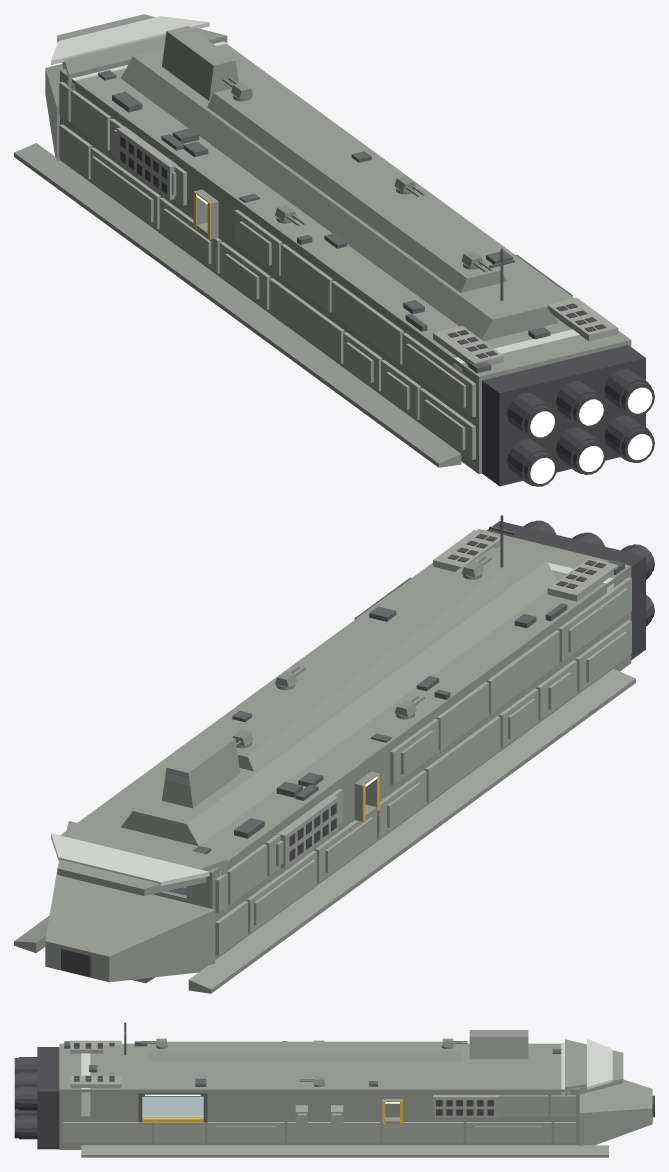
Rendered from ship_SMALL_FRIGATE.glb.
3 views of the same model, one above another, from view 1: azimuth 30°, elevation 25°; view 2: azimuth 150°, elevation 25°; view 3: azimuth 270°, elevation 25° (orthographic). The views are drawn at different scales.
Visible parts, largest first — view 1: SMALL_FRIGATE_Hull-col, SMALL_FRIGATE_Armor, SMALL_FRIGATE_Engines, SMALL_FRIGATE_Accent, SMALL_FRIGATE_Details, SMALL_FRIGATE_EngineGlow; view 2: SMALL_FRIGATE_Hull-col, SMALL_FRIGATE_Armor, SMALL_FRIGATE_Engines, SMALL_FRIGATE_Accent, SMALL_FRIGATE_Details; view 3: SMALL_FRIGATE_Hull-col, SMALL_FRIGATE_Armor, SMALL_FRIGATE_Engines, SMALL_FRIGATE_Accent, SMALL_FRIGATE_CargoBayShield, SMALL_FRIGATE_CargoBayDoor-col, SMALL_FRIGATE_Trim, SMALL_FRIGATE_Hazard, SMALL_FRIGATE_Details, SMALL_FRIGATE_EscapePod_1, SMALL_FRIGATE_EscapePod_2.
Part boxes in pixels (x1,y1,x2,y2): SMALL_FRIGATE_Hull-col: [14, 14, 631, 473]; SMALL_FRIGATE_Armor: [59, 81, 618, 459]; SMALL_FRIGATE_Engines: [120, 135, 654, 486]; SMALL_FRIGATE_Accent: [51, 16, 579, 372]; SMALL_FRIGATE_Details: [98, 70, 550, 373]; SMALL_FRIGATE_EngineGlow: [530, 387, 652, 483]; SMALL_FRIGATE_Hull-col: [14, 529, 635, 993]; SMALL_FRIGATE_Armor: [215, 530, 631, 955]; SMALL_FRIGATE_Engines: [61, 520, 654, 976]; SMALL_FRIGATE_Accent: [51, 562, 613, 885]; SMALL_FRIGATE_Details: [192, 515, 624, 854]; SMALL_FRIGATE_Hull-col: [59, 1030, 652, 1157]; SMALL_FRIGATE_Armor: [63, 1040, 575, 1143]; SMALL_FRIGATE_Engines: [14, 1043, 654, 1149]; SMALL_FRIGATE_Accent: [81, 1039, 612, 1116]; SMALL_FRIGATE_CargoBayShield: [142, 1096, 203, 1116]; SMALL_FRIGATE_CargoBayDoor-col: [142, 1096, 203, 1116]; SMALL_FRIGATE_Trim: [138, 1091, 207, 1122]; SMALL_FRIGATE_Hazard: [142, 1101, 402, 1124]; SMALL_FRIGATE_Details: [64, 1022, 561, 1086]; SMALL_FRIGATE_EscapePod_1: [295, 1105, 307, 1123]; SMALL_FRIGATE_EscapePod_2: [331, 1105, 343, 1123].
Bounding box in the file's own units: 19.8 × 17.4 × 87.5.
